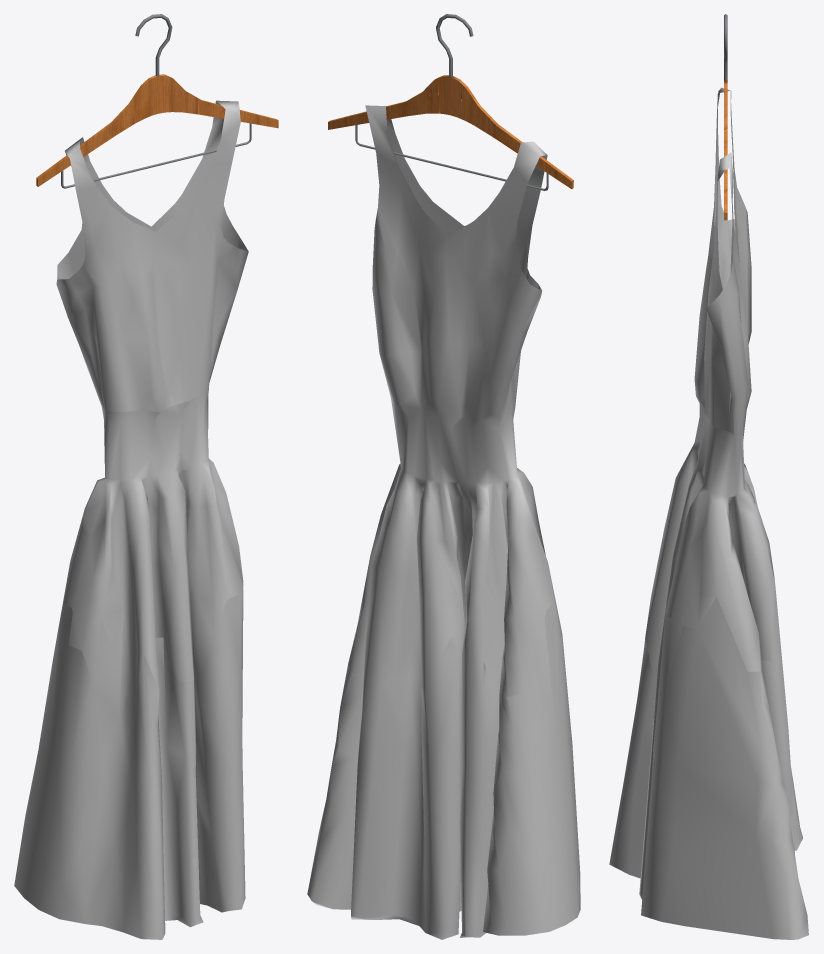
Rendered from dress-4.FBX.
The picture shows the model from 3 angles, left to right: view 1: azimuth 30°, elevation 25°; view 2: azimuth 150°, elevation 25°; view 3: azimuth 270°, elevation 25°; orthographic projection.
Parts seen in each view (by area): view 1: dress-4_LOD0, _Hanger-1_LOD0; view 2: dress-4_LOD0, _Hanger-1_LOD0; view 3: dress-4_LOD0, _Hanger-1_LOD0.
Boxes of the visible parts, x1=… form: dress-4_LOD0: x1=14, y1=100, x2=248, y2=939; _Hanger-1_LOD0: x1=36, y1=14, x2=278, y2=188; dress-4_LOD0: x1=307, y1=105, x2=580, y2=939; _Hanger-1_LOD0: x1=328, y1=14, x2=573, y2=190; dress-4_LOD0: x1=609, y1=87, x2=808, y2=939; _Hanger-1_LOD0: x1=724, y1=14, x2=727, y2=220.
Size of what is drawn, in the model's own units: 31.2 by 22.16 by 109.
